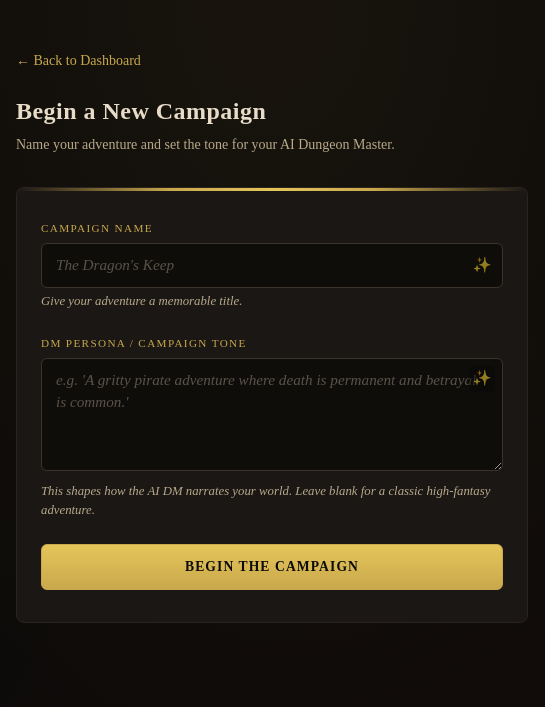
Test: CreateGameForm › error handling › shows fallback error when server returns no error message
The image size is (545, 707).
In the field with test id "game-name-input": coordinates (272, 265) top-left (41, 243), bottom-right (503, 288), type "Test"
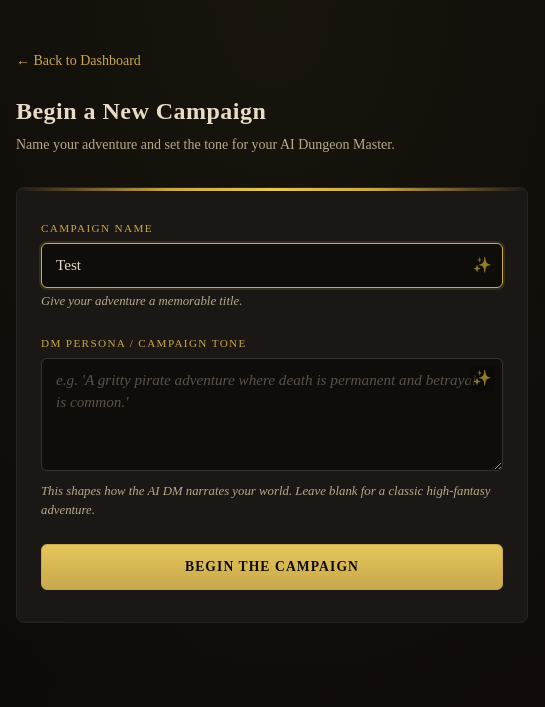
Click the button with test id "submit-button": coordinates (272, 567) top-left (41, 544), bottom-right (503, 590)
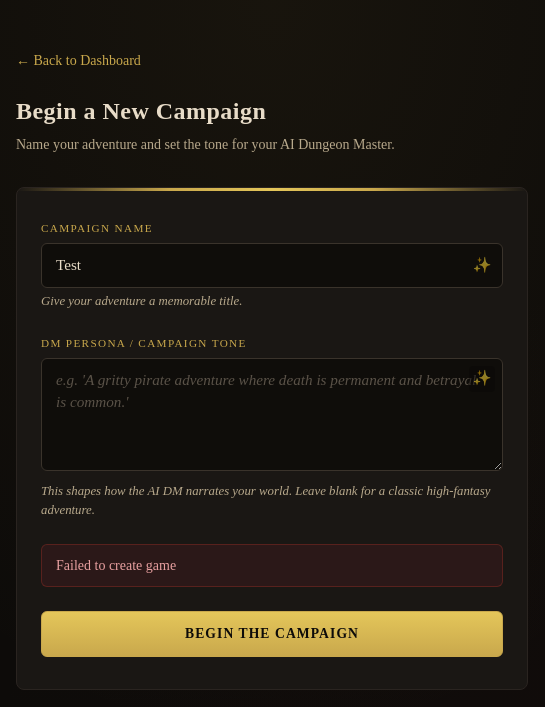
expect the text with test id "form-error" reads "Failed to create game": met, box top-left (56, 558), bottom-right (176, 573)
